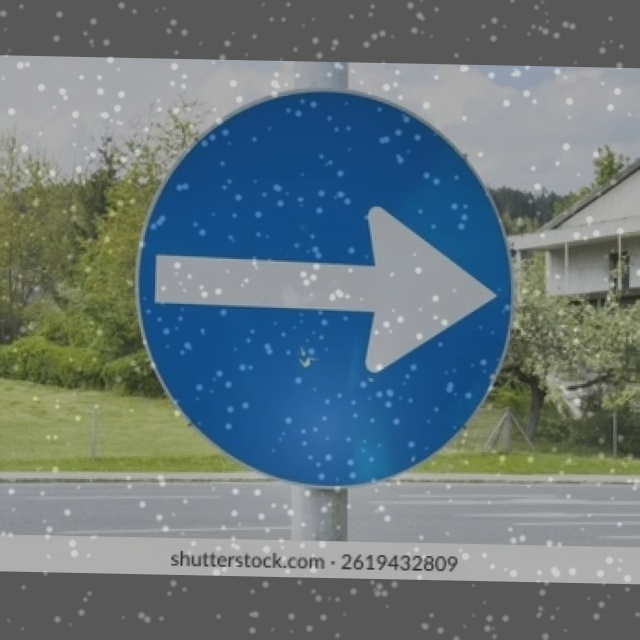Compulsory_Turn_Right: (141, 83, 519, 487)
